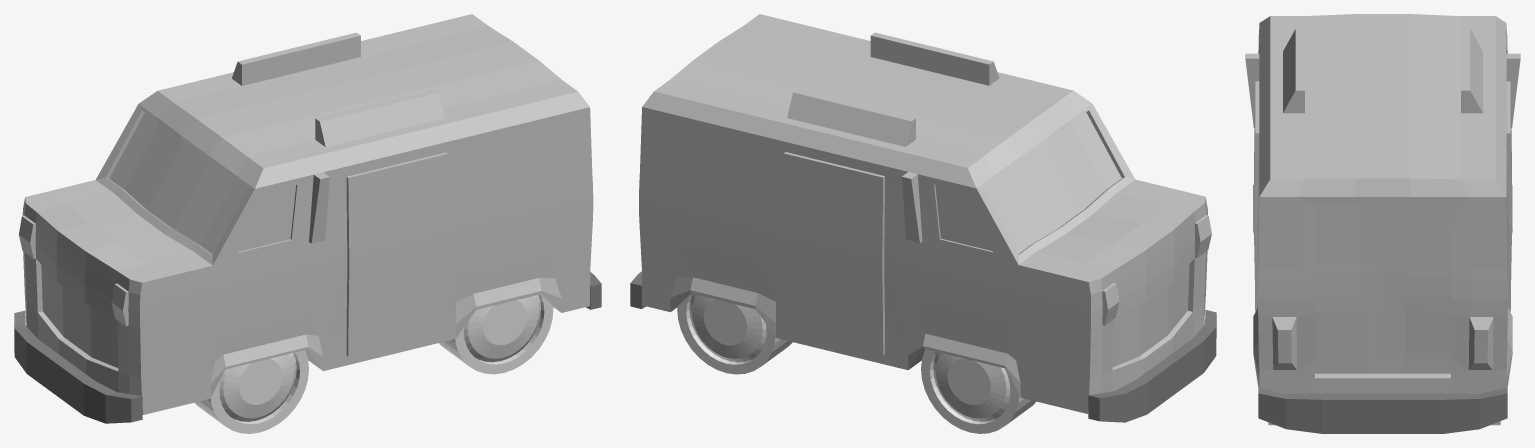
File: CDS_Body.fbx
3 renders of one model, left to right at view 1: azimuth 30°, elevation 25°; view 2: azimuth 150°, elevation 25°; view 3: azimuth 270°, elevation 25°, orthographic. The views are drawn at different scales.
Parts seen in each view (by area): view 1: frame, tire2, tire1, fromy bumper; view 2: frame, tire4, tire3, fromy bumper; view 3: frame, Rear bumper.
Boxes of the visible parts, x1,y1,x2,y2 form: frame: (19, 14, 593, 414); tire2: (194, 350, 308, 433); tire1: (439, 294, 553, 374); fromy bumper: (14, 310, 142, 423); frame: (639, 14, 1211, 413); tire4: (921, 349, 1035, 433); tire3: (677, 293, 792, 374); fromy bumper: (1088, 310, 1216, 422); frame: (1245, 14, 1520, 393); Rear bumper: (1258, 387, 1507, 433).
Bounding box in the file's own units: 1003 × 549 × 454.
